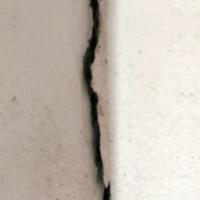crack: (66, 0, 139, 199)
